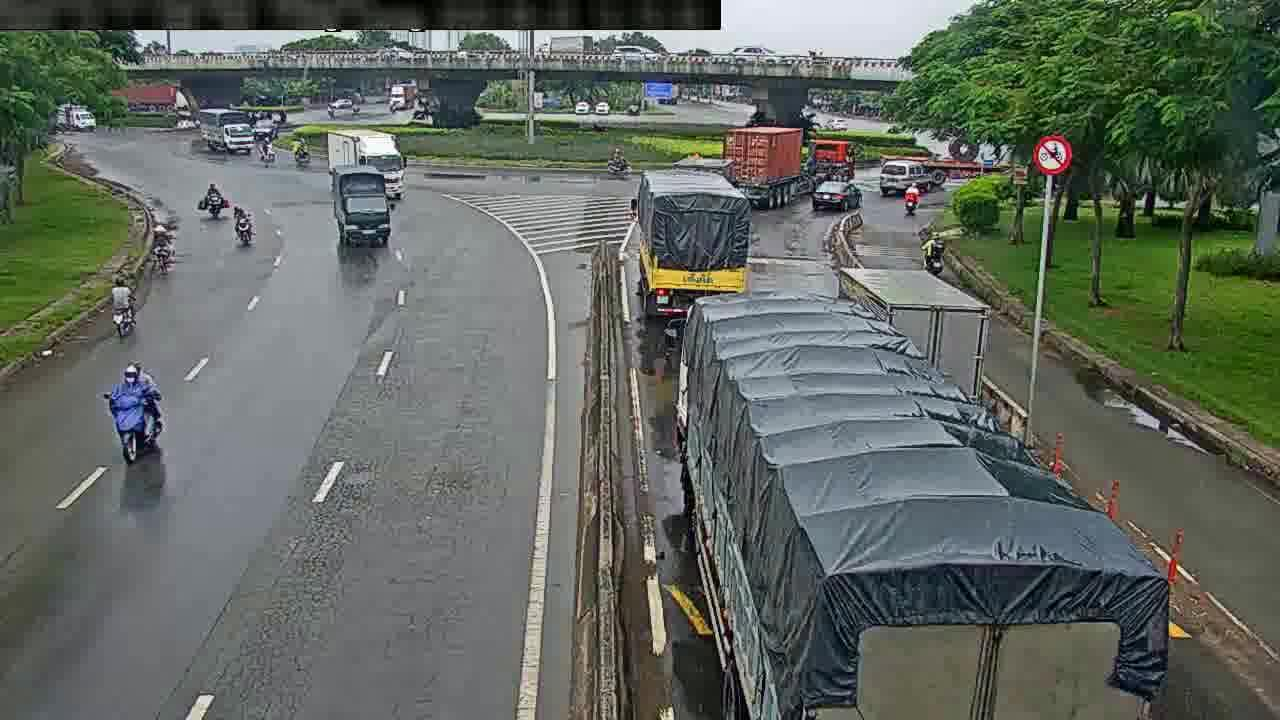8: (665, 284, 1174, 711), (834, 259, 993, 392), (634, 166, 743, 308), (720, 124, 847, 199), (323, 121, 415, 200), (322, 162, 396, 249)
container: (877, 160, 938, 195), (813, 179, 875, 210)
motorbike: (105, 361, 172, 465), (918, 232, 947, 272), (110, 280, 132, 330), (228, 204, 247, 246), (200, 181, 224, 212), (903, 180, 922, 215)
